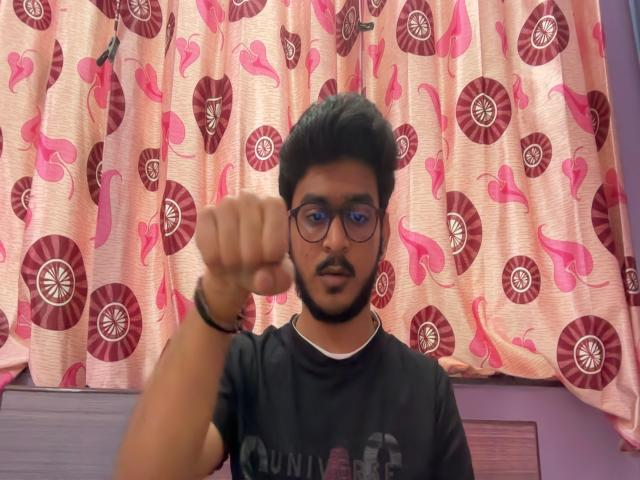Yes: (188, 188, 298, 307)
